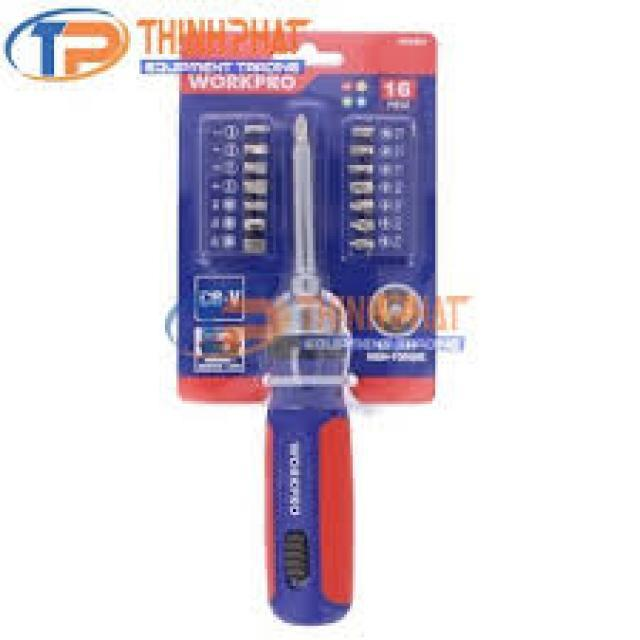screwdriver: (264, 108, 358, 634)
